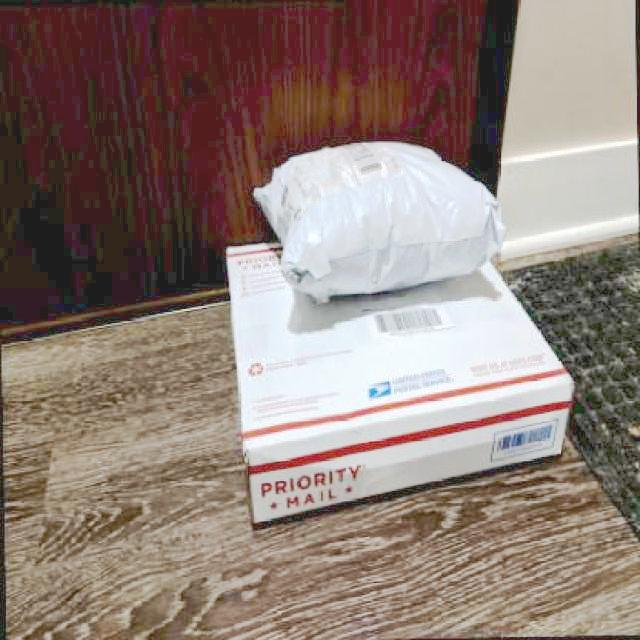Box: (220, 232, 577, 532), (242, 132, 508, 302)
